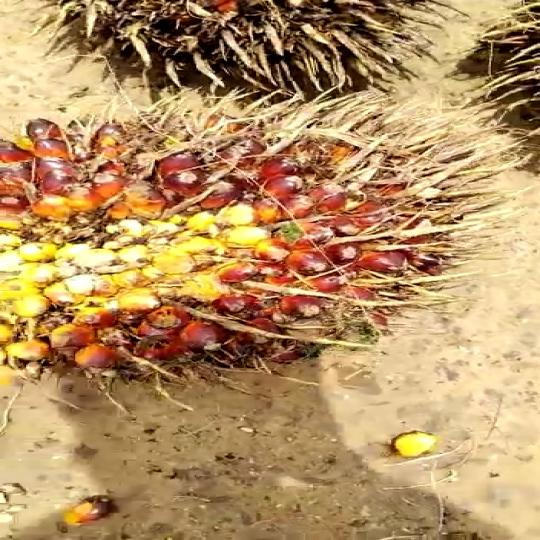masak: (0, 91, 487, 385)
